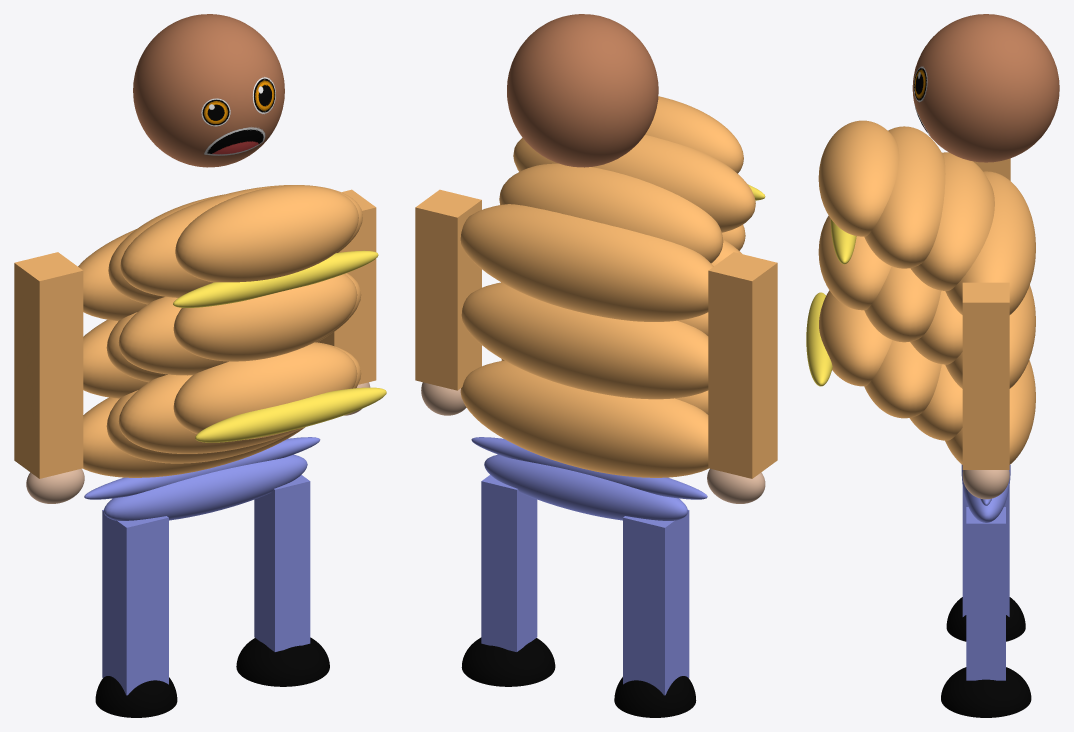
The model's file is Jesse costume 3.glb.
3 renders of one model, left to right at view 1: azimuth 30°, elevation 25°; view 2: azimuth 150°, elevation 25°; view 3: azimuth 270°, elevation 25°, orthographic. The views are drawn at different scales.
Parts seen in each view (by area): view 1: node_id52, node_id42, node_id26, node_id36, node_id18, node_id10, node_id38, node_id34, node_id24, node_id8, node_id30, node_id16 (+12 smaller); view 2: node_id20, node_id52, node_id4, node_id12, node_id42, node_id36, node_id40, node_id22, node_id38, node_id24, node_id34, node_id26 (+5 smaller); view 3: node_id52, node_id40, node_id24, node_id26, node_id38, node_id22, node_id20, node_id10, node_id8, node_id16, node_id18, node_id50 (+11 smaller).
Part boxes in pixels (bbox=[...]): node_id52: bbox=[133, 14, 284, 167]; node_id42: bbox=[14, 252, 83, 478]; node_id26: bbox=[175, 185, 358, 282]; node_id36: bbox=[102, 509, 168, 695]; node_id18: bbox=[173, 274, 357, 361]; node_id10: bbox=[173, 342, 357, 439]; node_id38: bbox=[254, 475, 310, 651]; node_id34: bbox=[103, 454, 307, 520]; node_id24: bbox=[120, 185, 362, 297]; node_id8: bbox=[118, 342, 361, 453]; node_id30: bbox=[195, 387, 386, 442]; node_id16: bbox=[118, 273, 361, 375]; node_id20: bbox=[460, 204, 713, 321]; node_id52: bbox=[507, 14, 658, 167]; node_id4: bbox=[460, 360, 708, 477]; node_id12: bbox=[461, 282, 708, 399]; node_id42: bbox=[708, 252, 777, 478]; node_id36: bbox=[623, 510, 689, 695]; node_id40: bbox=[415, 189, 481, 390]; node_id22: bbox=[499, 163, 723, 263]; node_id38: bbox=[481, 475, 537, 651]; node_id24: bbox=[513, 135, 755, 232]; node_id34: bbox=[484, 454, 687, 520]; node_id26: bbox=[645, 96, 743, 173]; node_id52: bbox=[912, 14, 1059, 162]; node_id40: bbox=[962, 282, 1009, 469]; node_id24: bbox=[864, 126, 945, 268]; node_id26: bbox=[818, 120, 899, 236]; node_id38: bbox=[966, 507, 1005, 680]; node_id22: bbox=[910, 152, 994, 290]; node_id20: bbox=[945, 171, 1035, 314]; node_id10: bbox=[819, 290, 892, 386]; node_id8: bbox=[864, 340, 941, 418]; node_id16: bbox=[864, 266, 941, 342]; node_id18: bbox=[818, 215, 891, 310]; node_id50: bbox=[941, 667, 1031, 717].
Size of the model in its own units: 0.2748 by 0.512 by 0.1829.
Materials: 25 (1 with a texture image).
